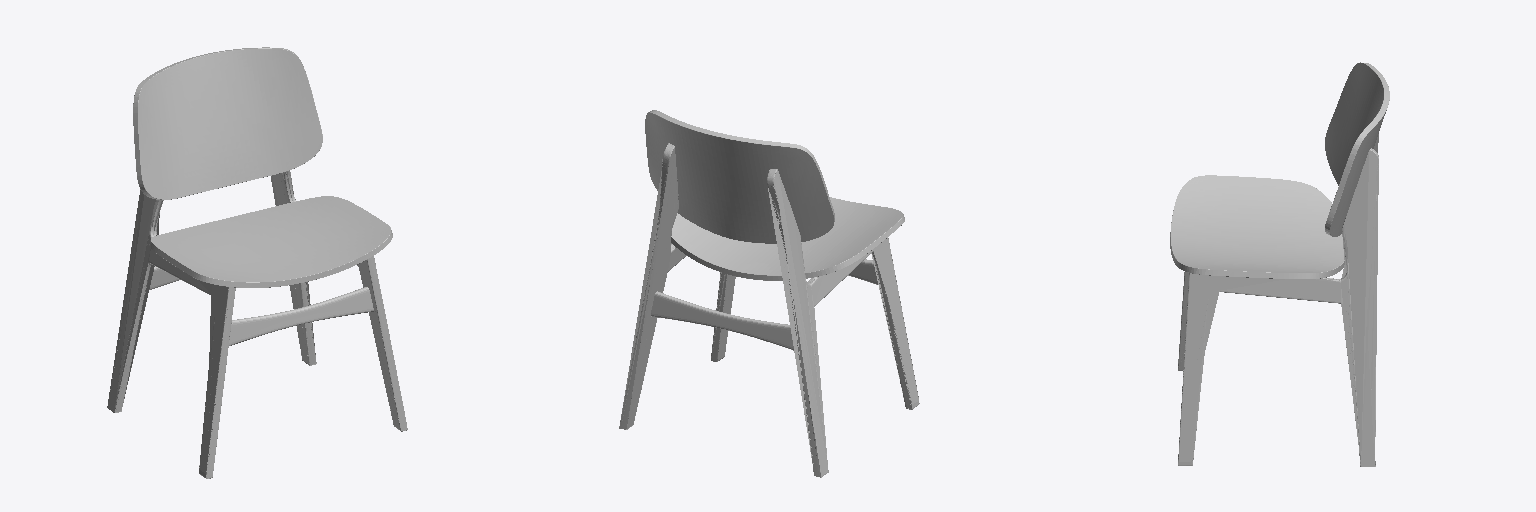
The model's file is chair.obj.
The picture shows the model from 3 angles: view 1: azimuth 30°, elevation 25°; view 2: azimuth 150°, elevation 25°; view 3: azimuth 270°, elevation 25°; orthographic projection.
Parts seen in each view (by area): view 1: Plane, seat, leg, Cube; view 2: leg, Plane, seat, Cube.001; view 3: leg, seat, Plane.
Part boxes in pixels (left/top/right/bottom): Plane: left=133, top=47, right=322, bottom=199; seat: left=149, top=196, right=392, bottom=287; leg: left=107, top=170, right=407, bottom=478; Cube: left=229, top=287, right=373, bottom=345; leg: left=619, top=143, right=919, bottom=477; Plane: left=645, top=110, right=834, bottom=243; seat: left=671, top=197, right=904, bottom=280; Cube.001: left=651, top=291, right=793, bottom=350; leg: left=1178, top=134, right=1378, bottom=466; seat: left=1170, top=175, right=1344, bottom=278; Plane: left=1325, top=62, right=1389, bottom=236.
Size of the model in its own units: 2.67 by 4.1 by 2.51.